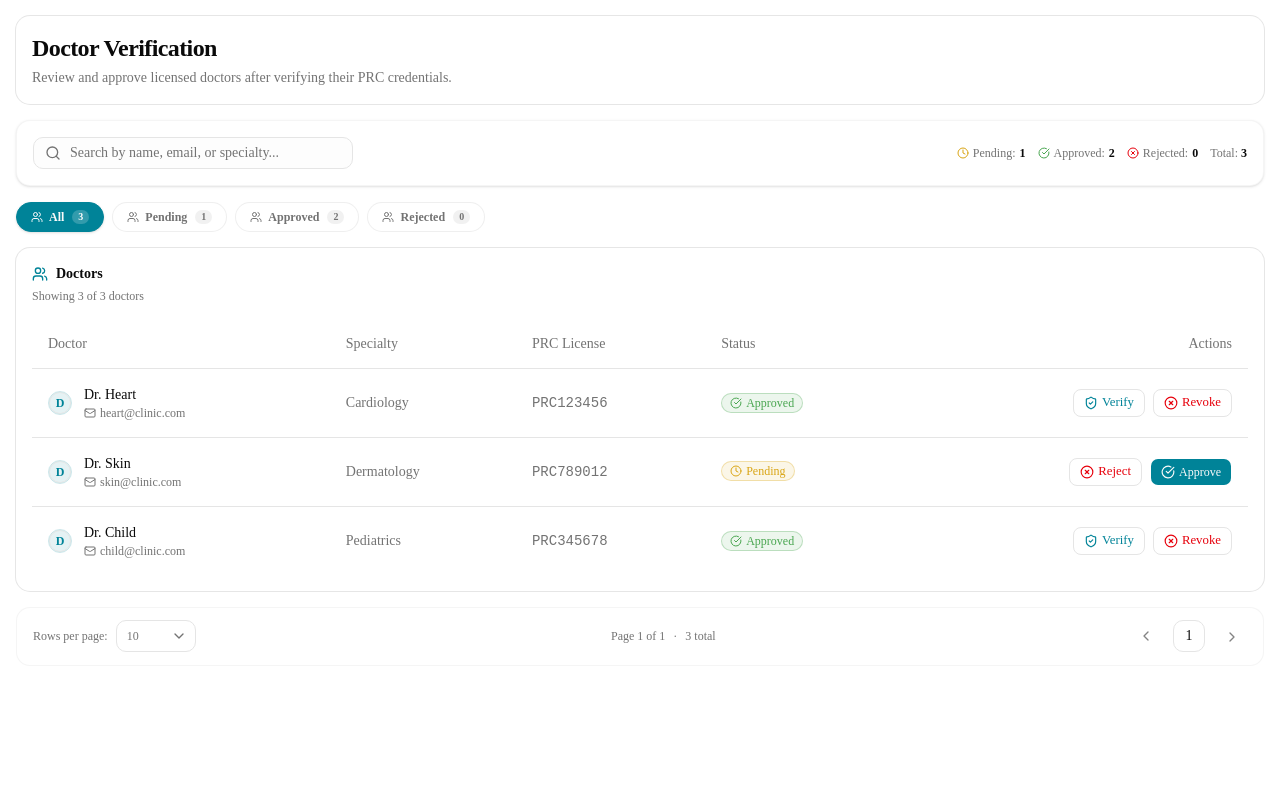
AdminDoctorsPage › shows the empty state when a filter matches nothing
Expected: the text "Doctor Verification" is shown, [32,35,217,61]
Expected: the text "Dr. Heart" is shown, [84,386,136,402]
Click the button "Rejected 0".
click(426, 217)  # box [368,202,485,232]
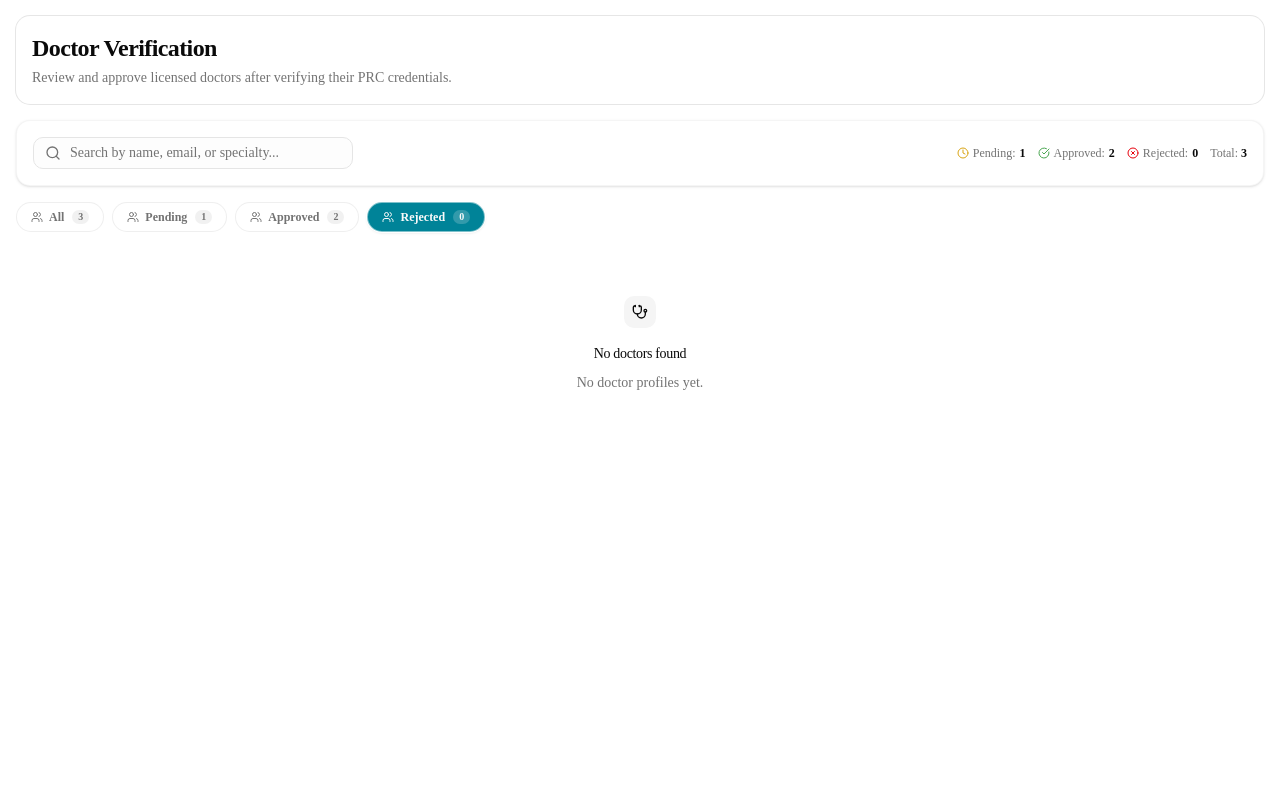
Expected: the text "No doctors found" is shown, [594,344,686,364]
